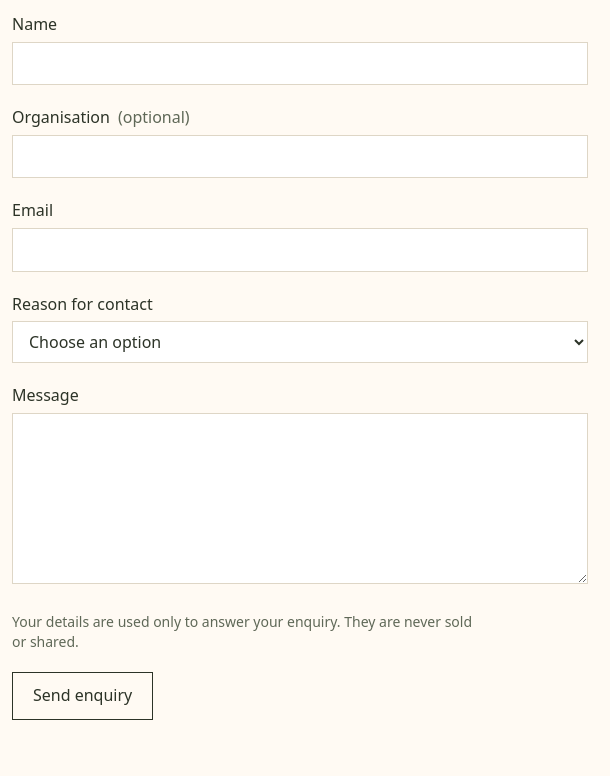
Scenario: ContactForm › surfaces a server failure as a readable message
Type "Organiser" into the field labelled "Name".
click(300, 63); type("Organiser")  # box [12,42,588,85]
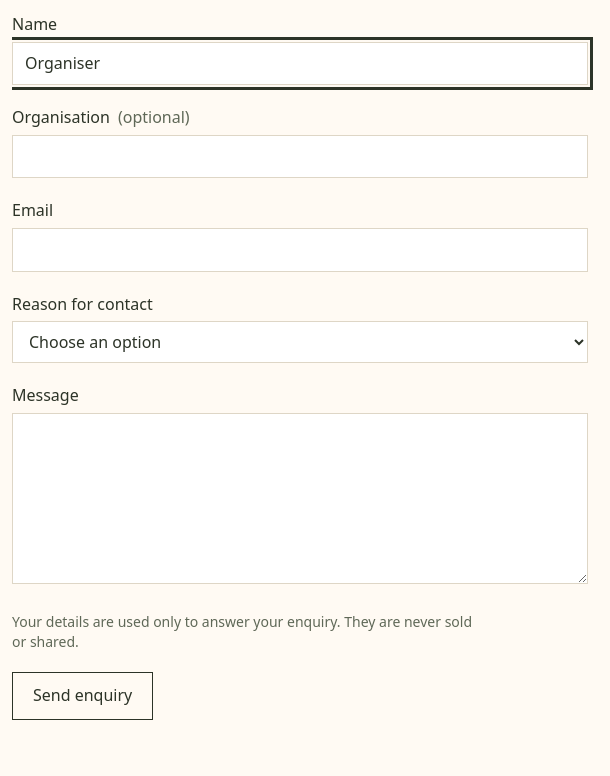
Type "org@example.com" into the field labelled "Email".
click(300, 250); type("org@example.com")  # box [12,228,588,272]
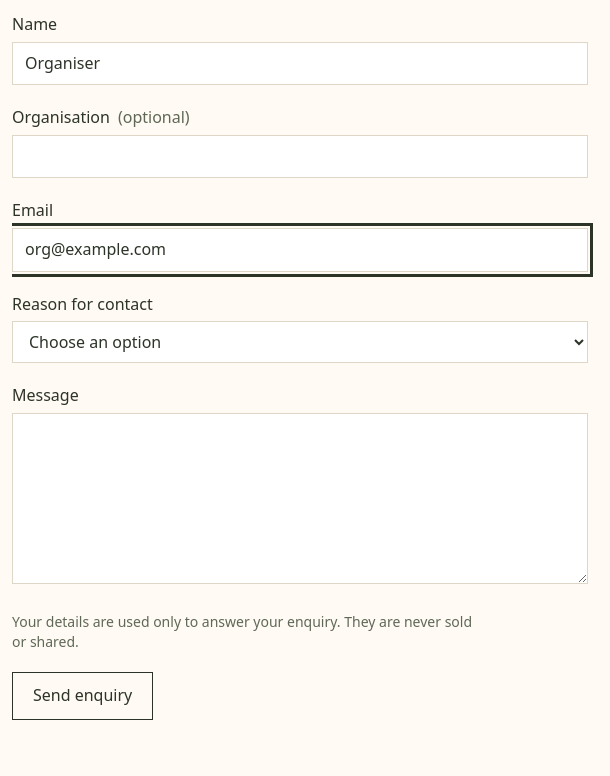
Select "Speaking & events" in the dropdown labelled "Reason for contact" at coordinates (300, 342), box [12,321,588,363]
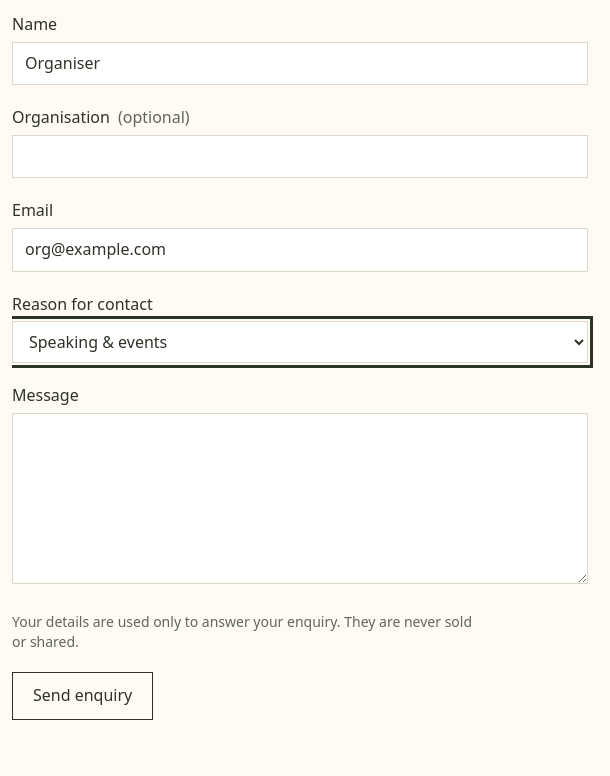
Type "Would you speak at our conference?" into the text box labelled "Message".
click(300, 499); type("Would you speak at our conference?")  # box [12,413,588,584]
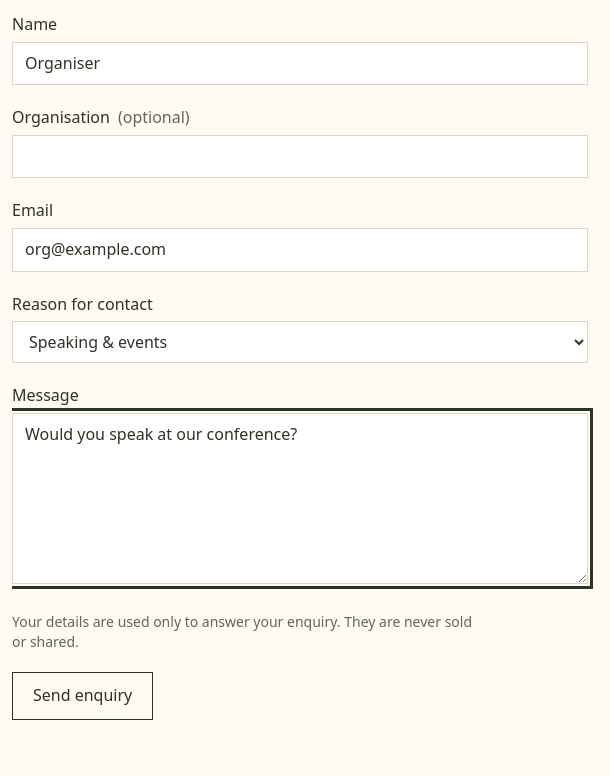
Click the button "Send enquiry".
click(83, 696)  # box [12,672,153,720]
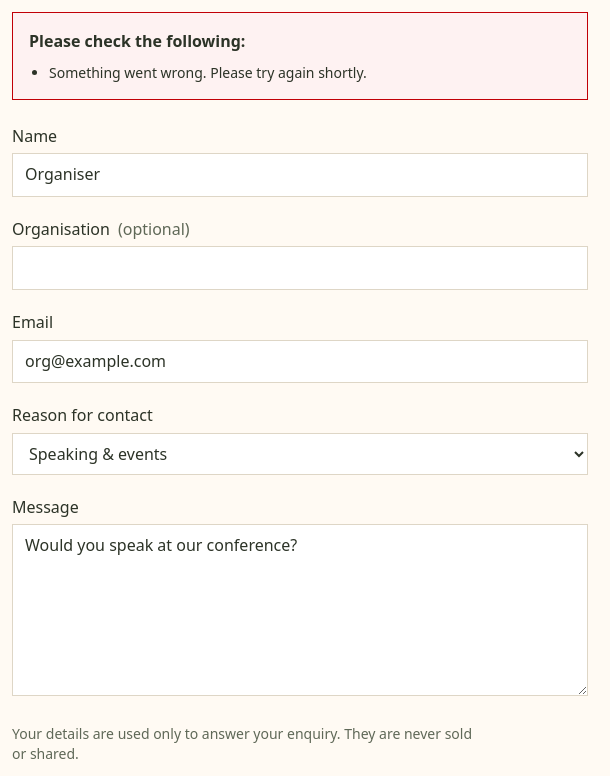
Check: the message shows "Something went wrong. Please try again shortly.", box [49,63,367,82]
